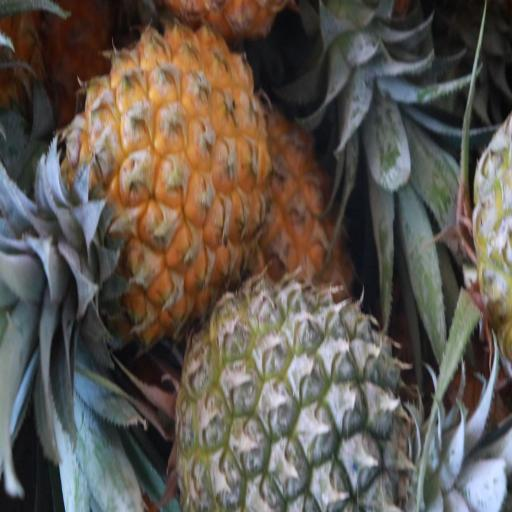Pineapple - v8 v1: (69, 22, 264, 335)
